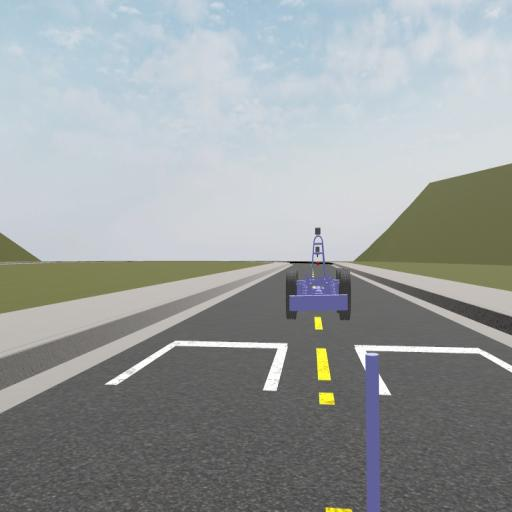ERP-42: (285, 226, 352, 318)
